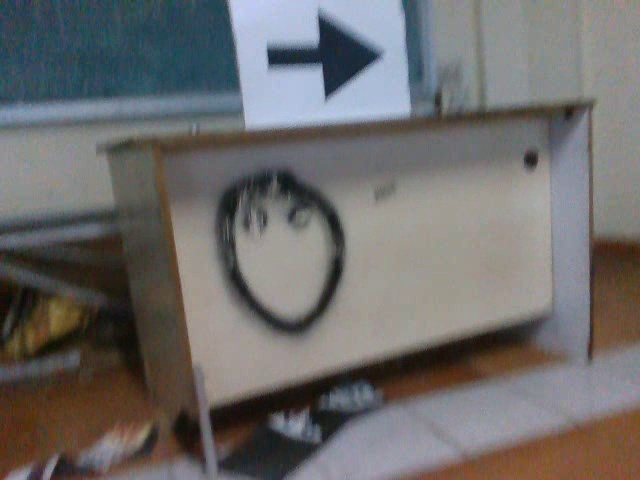Right: (259, 0, 392, 107)
